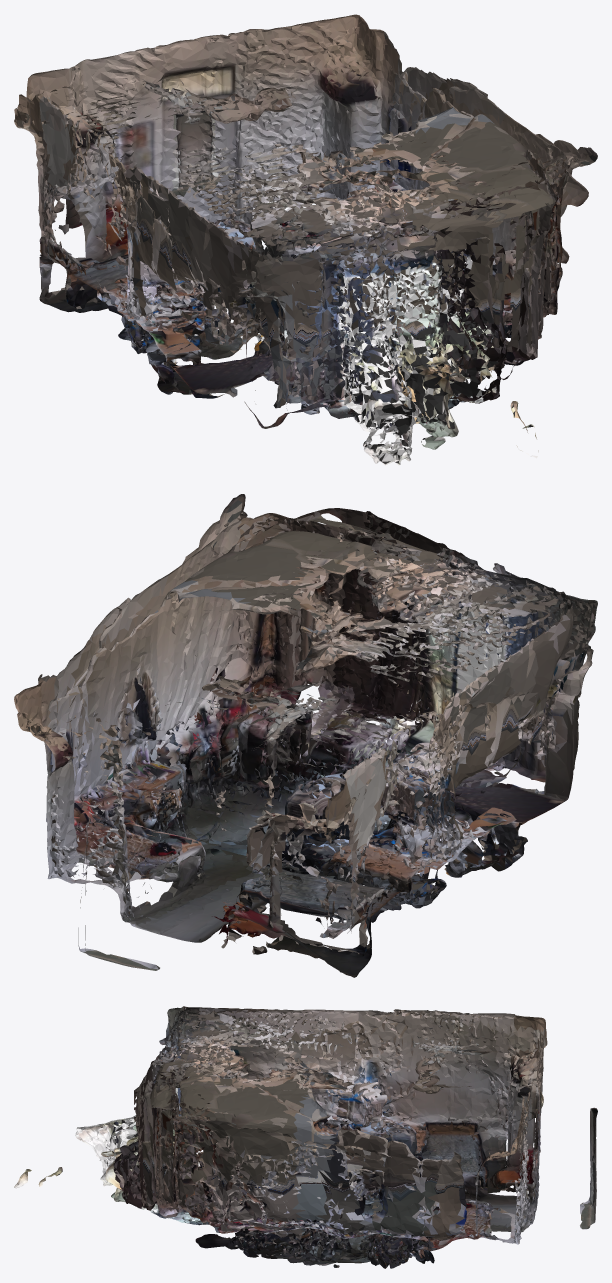
The model's file is room_photographic_model.glb.
3 views of the same model, one above another, from view 1: azimuth 30°, elevation 25°; view 2: azimuth 150°, elevation 25°; view 3: azimuth 270°, elevation 25° (orthographic). The views are drawn at different scales.
Visible parts, largest first — view 1: room_photographic_model_canonical.obj; view 2: room_photographic_model_canonical.obj; view 3: room_photographic_model_canonical.obj.
Part boxes in pixels (left/top/right/bottom): room_photographic_model_canonical.obj: left=14, top=14, right=597, bottom=465; room_photographic_model_canonical.obj: left=14, top=494, right=597, bottom=977; room_photographic_model_canonical.obj: left=14, top=1006, right=597, bottom=1268.
Bounding box in the file's own units: 2.38 × 1.45 × 4.31.
Materials: 1 (1 with a texture image).
